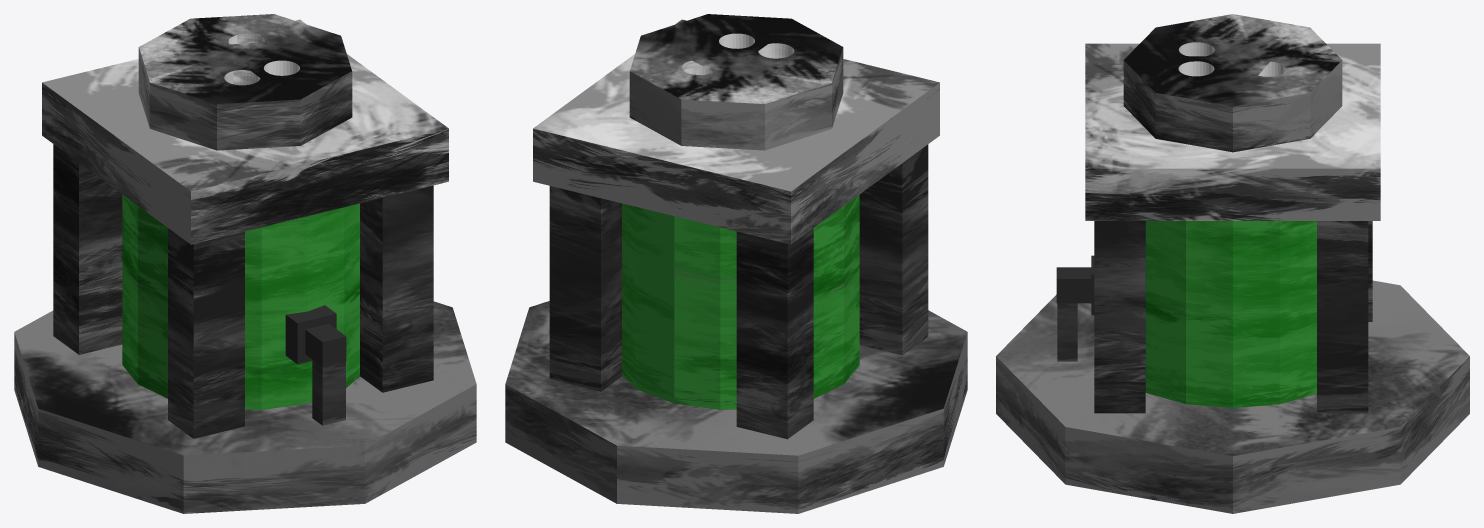
File: PoisonTrap.obj
3 renders of one model, left to right at view 1: azimuth 30°, elevation 25°; view 2: azimuth 150°, elevation 25°; view 3: azimuth 270°, elevation 25°, orthographic.
Parts seen in each view (by area): view 1: 立方体; view 2: 立方体; view 3: 立方体.
Part boxes in pixels (x1=…): 立方体: x1=14, y1=14, x2=476, y2=513; 立方体: x1=505, y1=14, x2=967, y2=513; 立方体: x1=996, y1=14, x2=1469, y2=513.
Bounding box in the file's own units: 3.85 × 3.17 × 3.85.
1 material, 1 textured.
